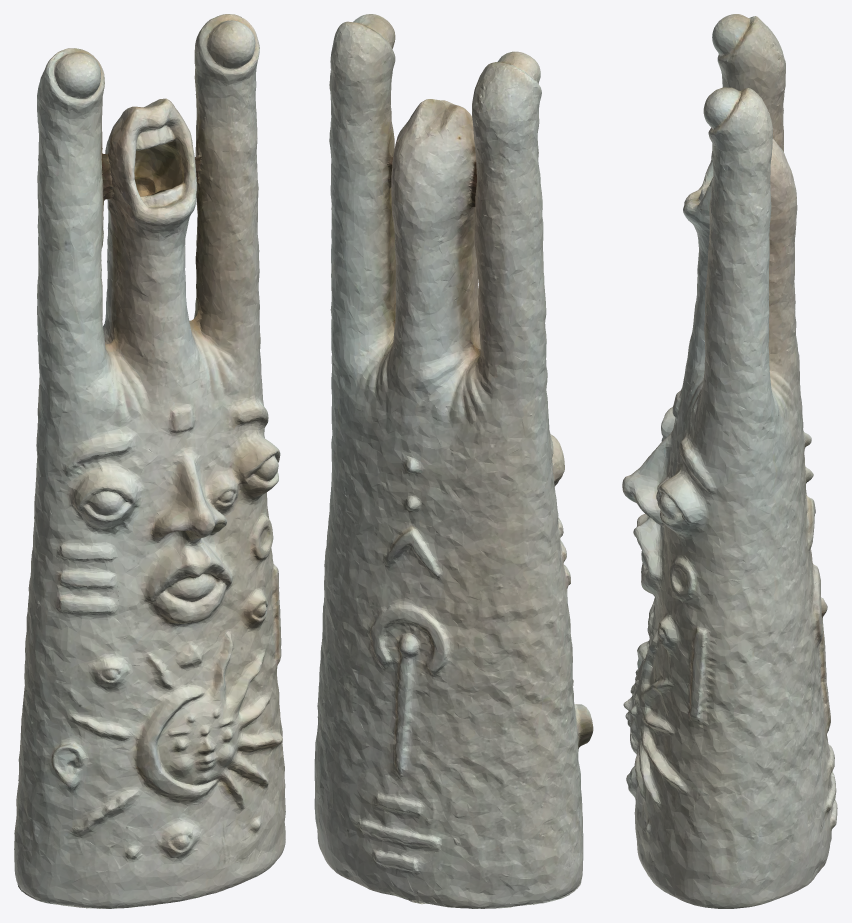
The model's file is cosmogenes.glb.
3 renders of one model, left to right at view 1: azimuth 30°, elevation 25°; view 2: azimuth 150°, elevation 25°; view 3: azimuth 270°, elevation 25°, orthographic. The views are drawn at different scales.
Bounding box in the file's own units: 0.4219 × 1.31 × 0.3189.
1 material, 1 textured.
